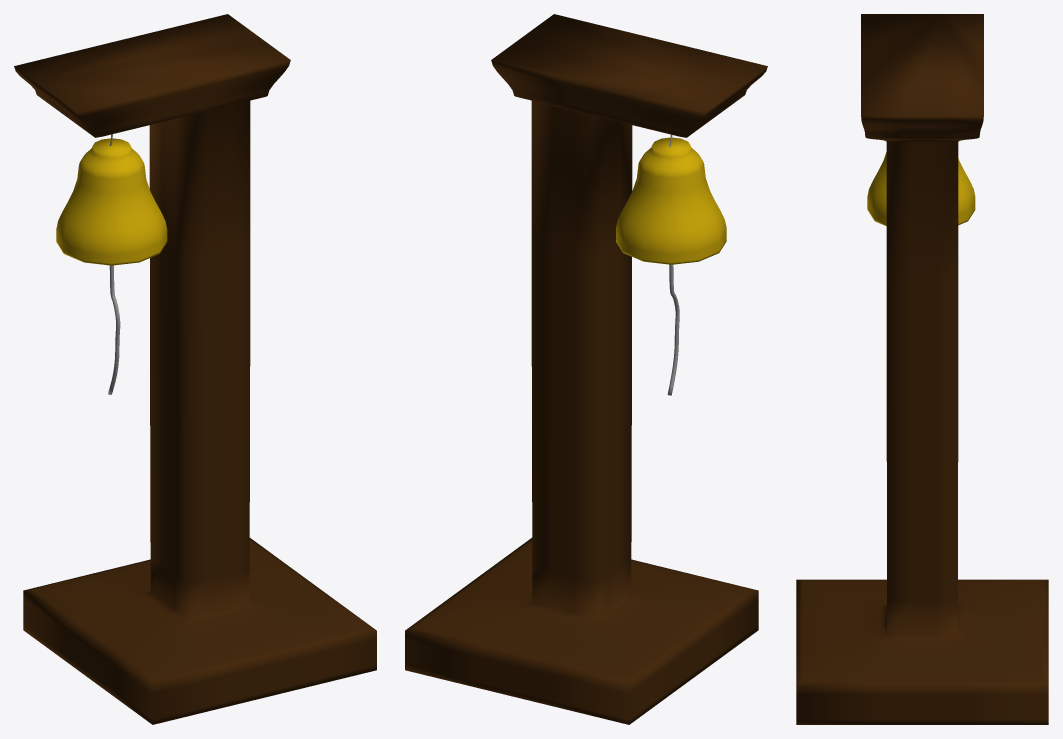
Rendered from alarma.obj.
The picture shows the model from 3 angles, left to right: view 1: azimuth 30°, elevation 25°; view 2: azimuth 150°, elevation 25°; view 3: azimuth 270°, elevation 25°; orthographic projection. The views are drawn at different scales.
Parts seen in each view (by area): view 1: Poste, Campana, Loft004; view 2: Poste, Campana, Loft004; view 3: Poste, Campana.
Part boxes in pixels (<box>): Poste: <box>14,14,376,724</box>; Campana: <box>56,138,167,265</box>; Loft004: <box>108,265,120,394</box>; Poste: <box>405,14,767,724</box>; Campana: <box>616,137,726,264</box>; Loft004: <box>667,264,679,395</box>; Poste: <box>796,14,1048,724</box>; Campana: <box>867,152,975,225</box>.
Size of the model in its own units: 26.24 by 56.29 by 22.06.
